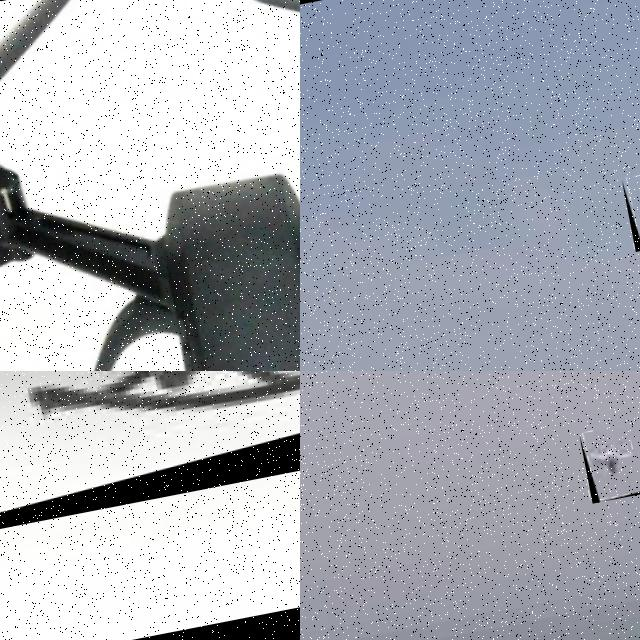drone: (0, 0, 300, 371), (0, 371, 300, 585), (579, 424, 640, 503), (622, 167, 640, 251)
